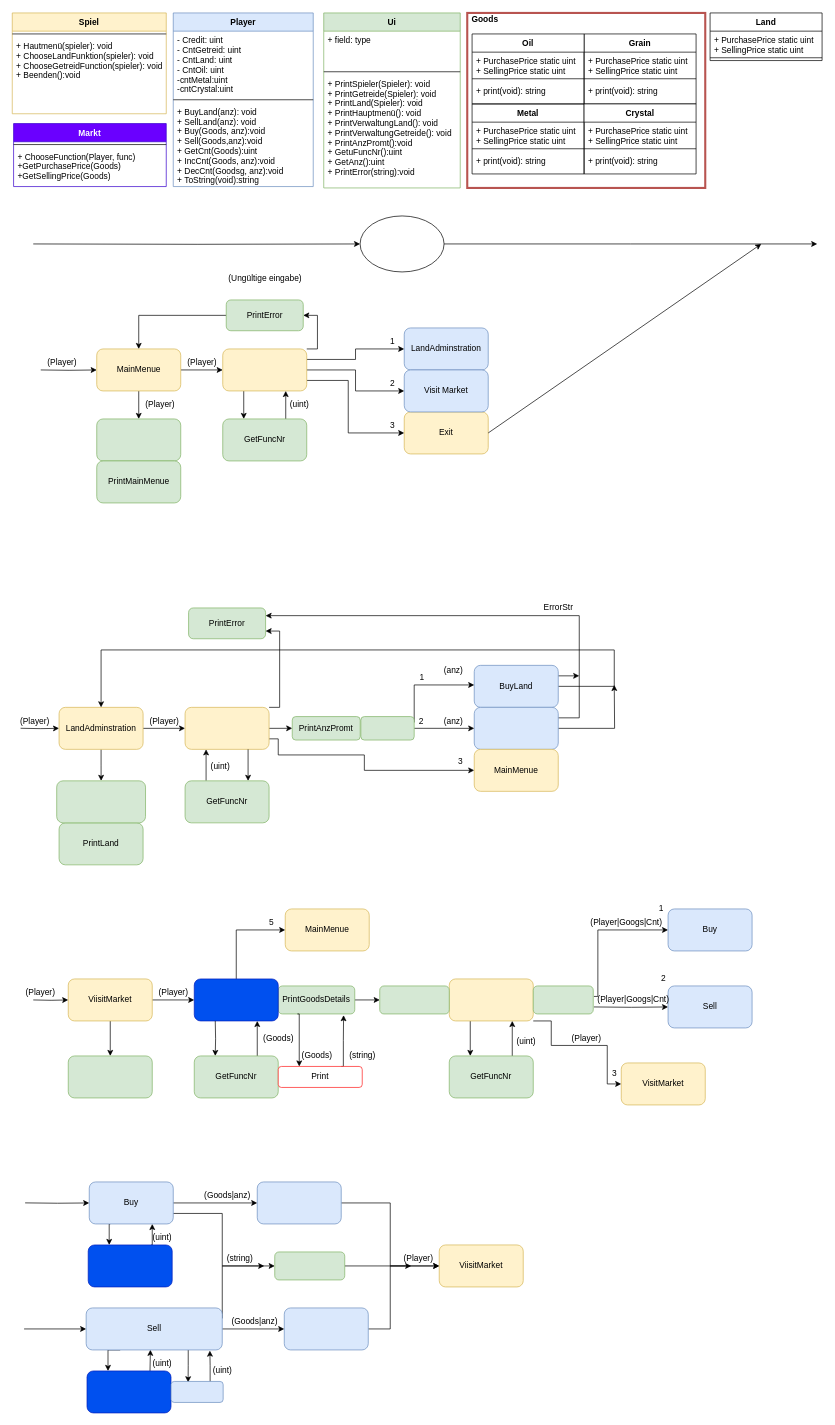
Some shapes in this 835 by 1425 pixel diagram are drawn without their labels. Each missing label, with the centre of its shape:
ChooseBuy/Sell: pixel 491 999
ChooseLandFunction: pixel 226 728
ChooseMainFunction: pixel 264 369
ChoseMarketGoods: pixel 236 999
DecCnt: pixel 326 1328
GetAnz: pixel 387 728
GetCnt: pixel 196 1391
GetPruchPrice: pixel 130 1265
GetSellPrice: pixel 128 1391
IncCnt: pixel 299 1202
Main: pixel 401 243
Print Error: pixel 309 1265
PrintBuySell: pixel 414 999
PrintCntPromt: pixel 563 999
PrintGoods: pixel 110 1076
PrintLandAdminstration: pixel 101 801
PrintPlayer: pixel 138 439
SellLand: pixel 516 728
